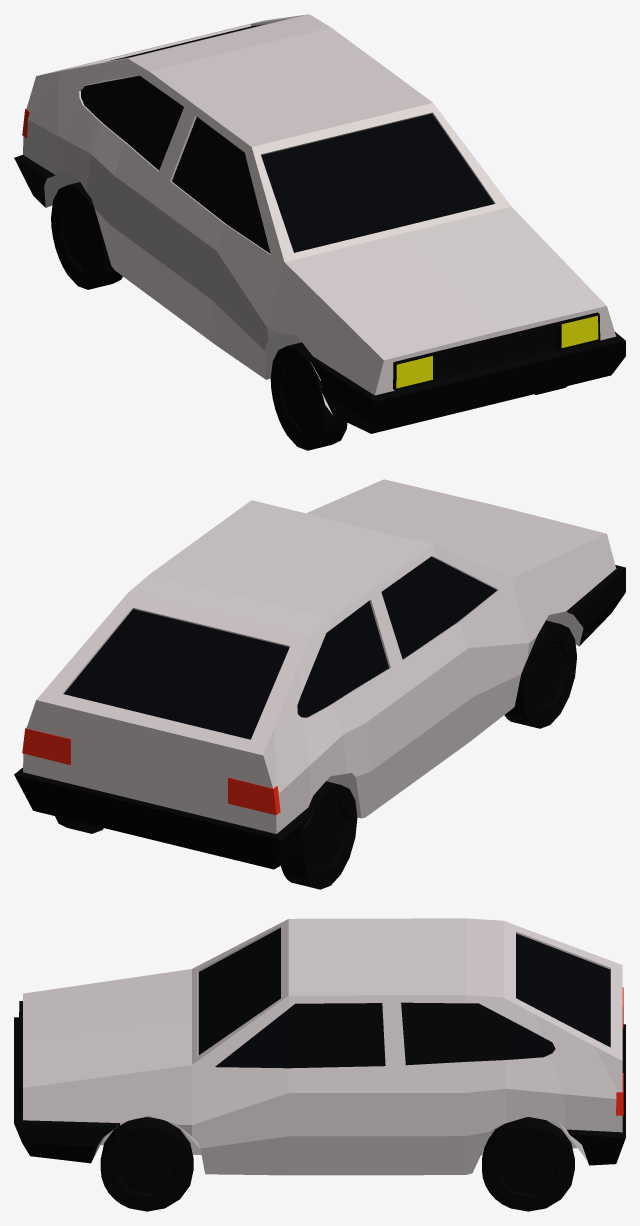
File: golquadrado.fbx
3 renders of one model, top to bottom at view 1: azimuth 30°, elevation 25°; view 2: azimuth 150°, elevation 25°; view 3: azimuth 270°, elevation 25°, orthographic. The views are drawn at different scales.
Visible parts, largest first — view 1: Chassi, Vidros, Parachoques, FR, RR, Painel da frente, Luz; view 2: Chassi, Vidros, Parachoques, RR, FR, Lanternas; view 3: Chassi, Vidros, FL, RL, Parachoques, Painel da frente.
Boxes of the visible parts, x1,y1,x2,y2 form: Chassi: (23, 14, 616, 414); Vidros: (81, 24, 494, 253); Parachoques: (14, 155, 625, 433); FR: (270, 342, 347, 450); RR: (51, 182, 122, 289); Painel da frente: (393, 312, 600, 390); Luz: (396, 315, 598, 388); Chassi: (23, 479, 616, 833); Vidros: (64, 556, 497, 739); Parachoques: (14, 565, 625, 869); RR: (281, 781, 357, 889); FR: (504, 620, 576, 728); Lanternas: (22, 727, 280, 815); Chassi: (23, 918, 622, 1175); Vidros: (198, 927, 610, 1068); FL: (100, 1117, 193, 1211); RL: (482, 1117, 574, 1211); Parachoques: (14, 1017, 625, 1165); Painel da frente: (19, 1001, 22, 1110).
Size of the model in its own units: 704 by 583 by 1606.
